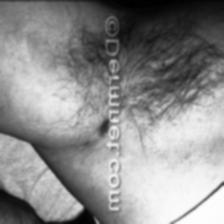Potentially Malignant Skin Tumors: (96, 109, 110, 143)
